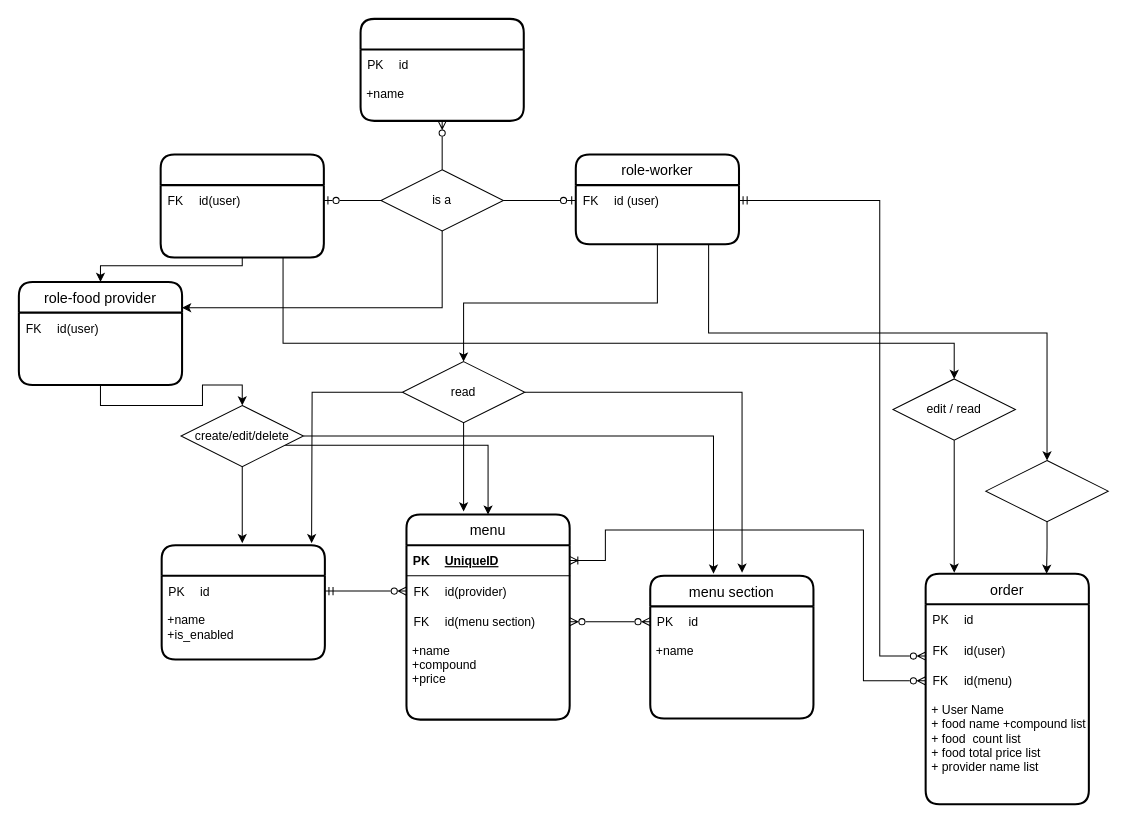
This 1126x822 diagram has some shape labels left out. The shapes that lost their labels are listed below. From the top down, each one's box as (x1, y1, x2, y2) in pixels, then its label:
(359, 17, 524, 121): user
(159, 153, 324, 258): role-food manager
(985, 460, 1108, 522): create / edit / read
(160, 544, 325, 660): provider
